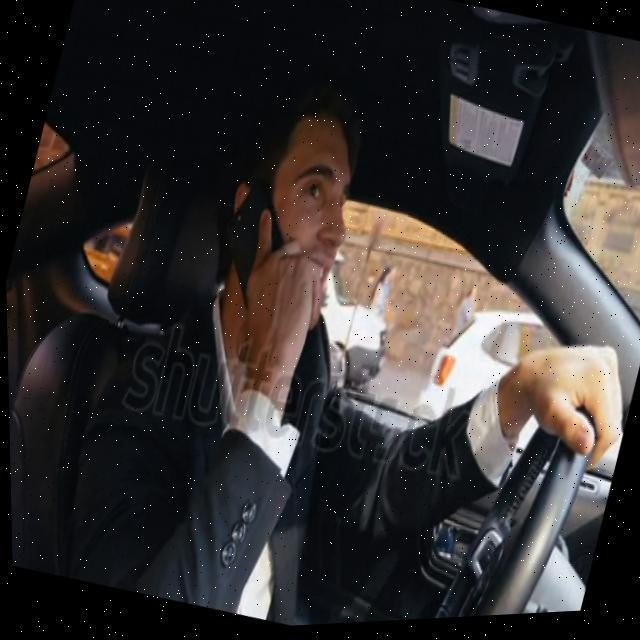PhoneCall: (204, 184, 305, 327)
